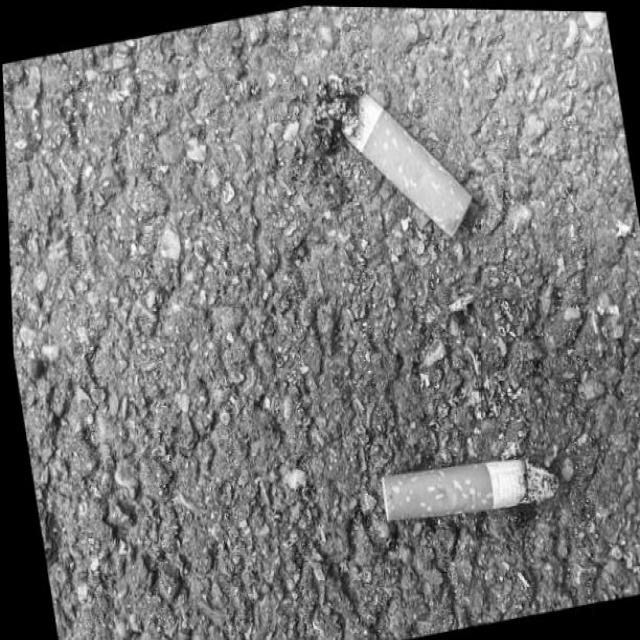cigarette: (318, 50, 478, 261), (374, 438, 558, 535)
